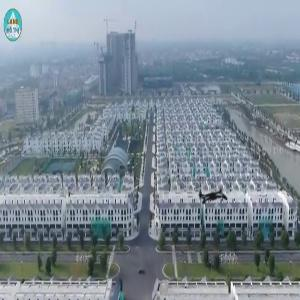drone: (170, 155, 256, 241)
